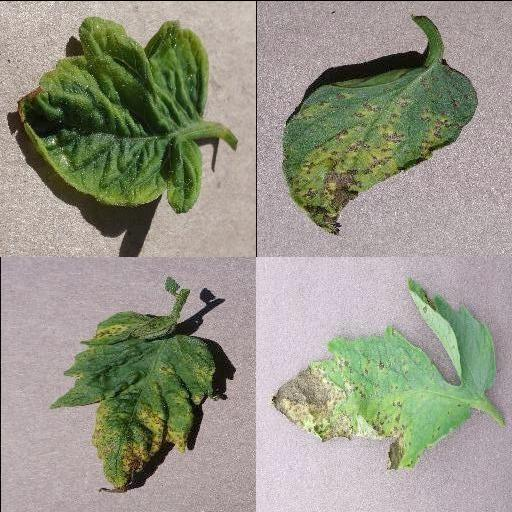Septoria: (274, 277, 498, 468), (281, 57, 476, 233), (49, 311, 214, 491)
Yellow Leaf Curl Virus: (16, 16, 208, 216)
